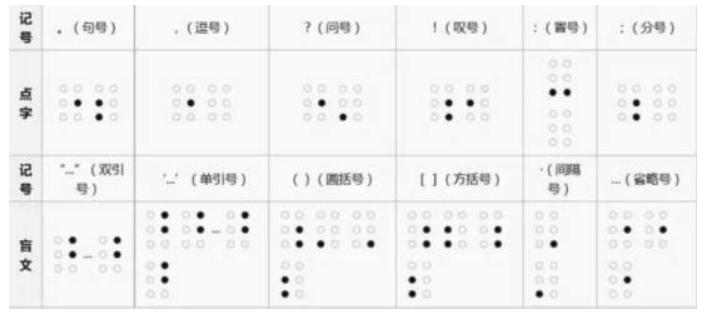Braille: (311, 208, 345, 252), (462, 81, 495, 125), (532, 208, 564, 252), (54, 82, 87, 124), (168, 81, 199, 124), (405, 207, 436, 250), (178, 206, 207, 251), (427, 80, 457, 123), (52, 233, 82, 276), (533, 258, 562, 301), (276, 260, 307, 300), (225, 206, 253, 250), (278, 210, 306, 253), (95, 235, 124, 276), (143, 259, 172, 300), (642, 209, 671, 250), (606, 210, 634, 252), (144, 208, 171, 251), (337, 83, 366, 123), (405, 259, 434, 299), (546, 59, 575, 98), (300, 83, 328, 123), (478, 209, 506, 249), (616, 83, 643, 124), (442, 210, 469, 251), (351, 210, 379, 249), (610, 259, 637, 298), (207, 83, 234, 121), (94, 83, 118, 123)
